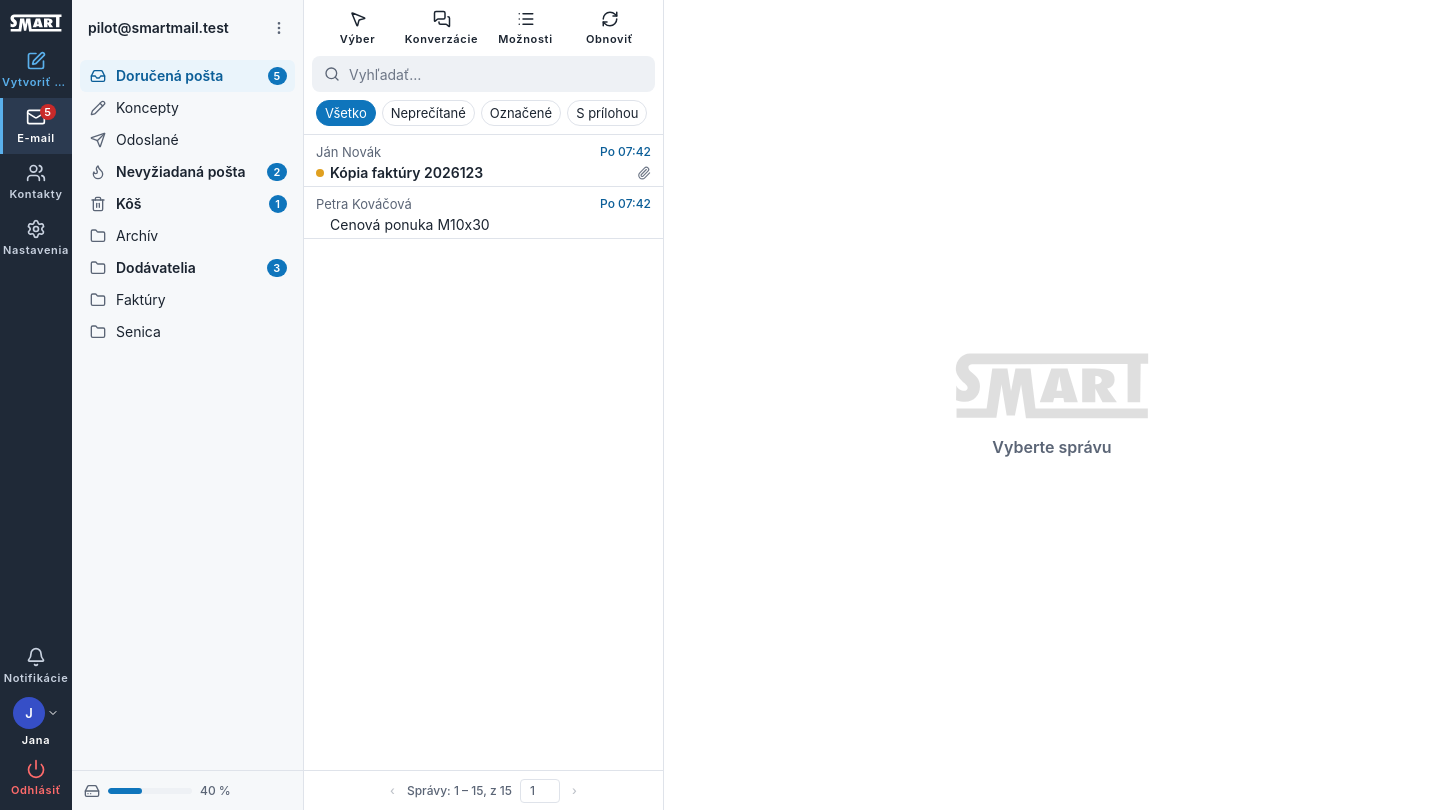
Test case: W2 shell and folder column (1c) › G3 Nový podpriečinok sends the parent and shows a name conflict inline
Right-click the link with aria-label "Dodávatelia, neprečítané: 3" at (188,268), box top-left (90, 259), bottom-right (287, 277)
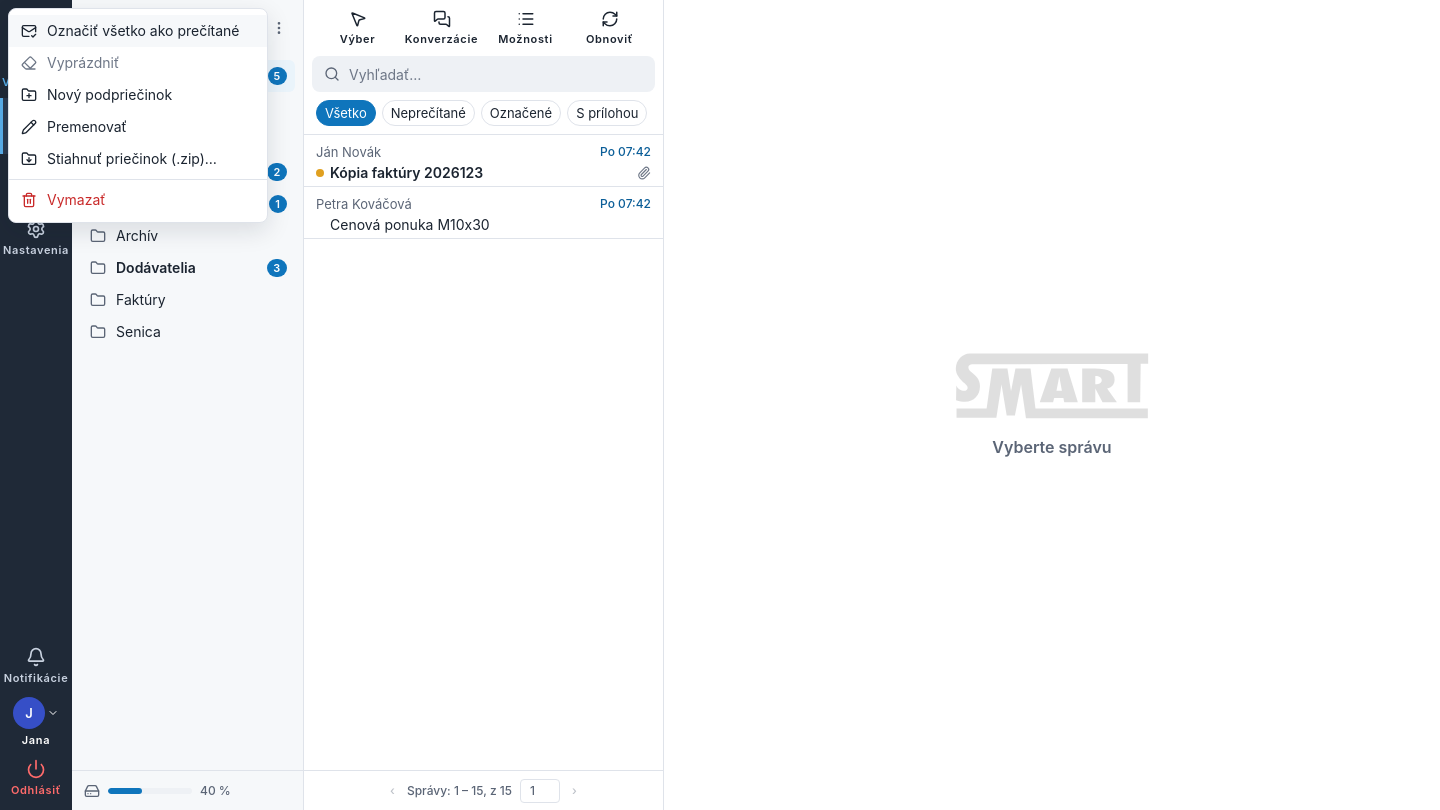
Click the menu item "Nový podpriečinok" at (138,95), box top-left (9, 79), bottom-right (267, 111)
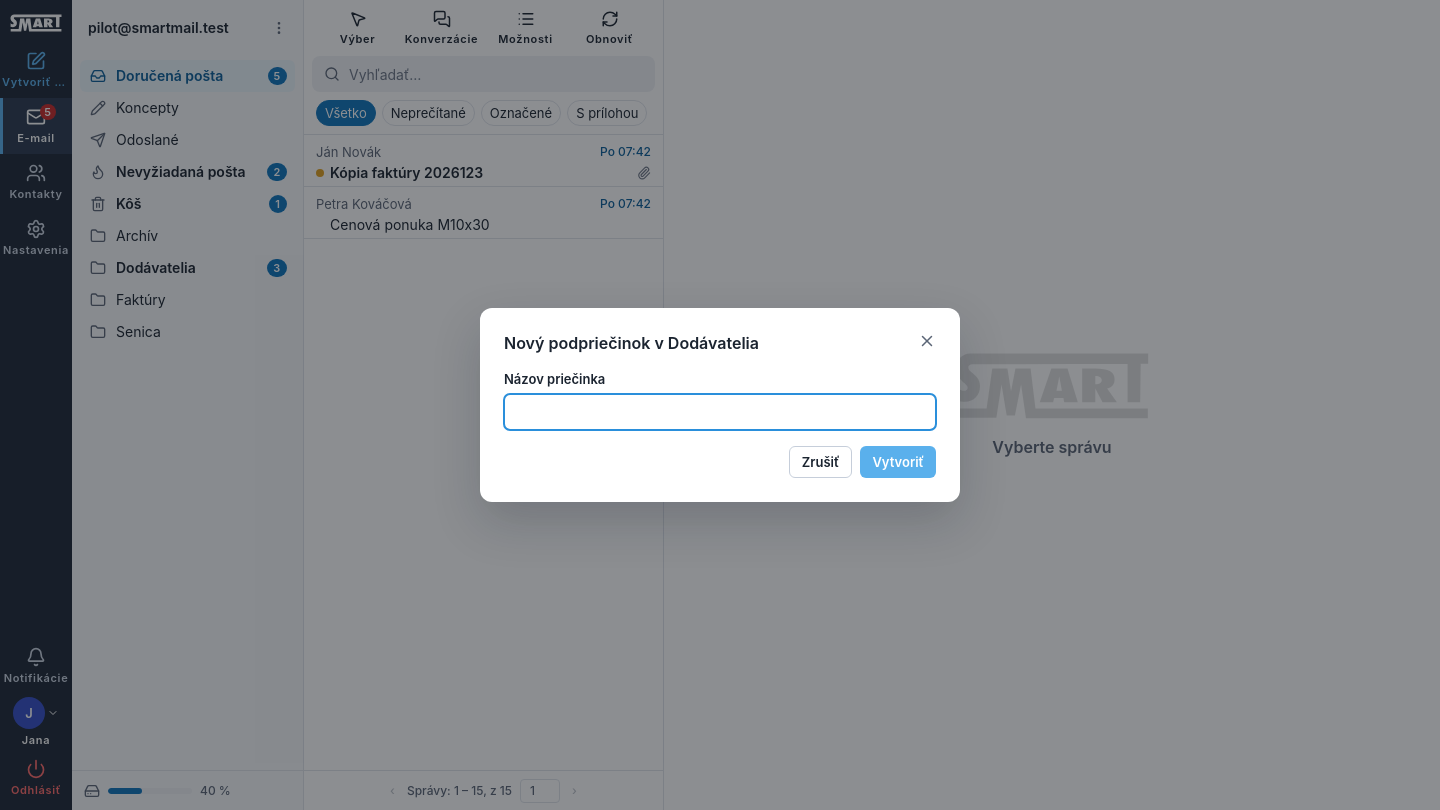
Type " Würth " into the field labelled "Názov priečinka" at (720,412), box top-left (504, 394), bottom-right (936, 430)
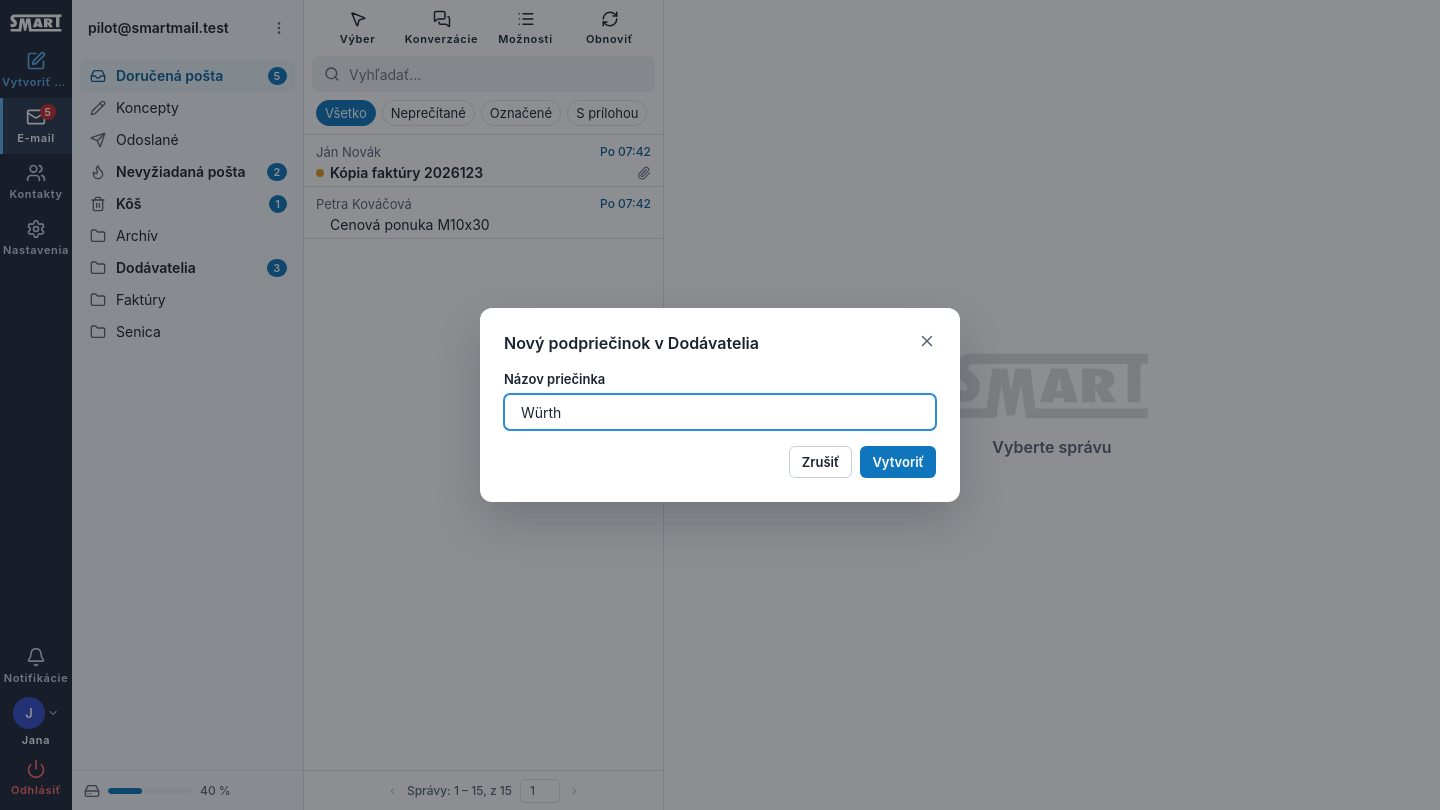
Click the button "Vytvoriť" at (898,462), box top-left (860, 446), bottom-right (936, 478)
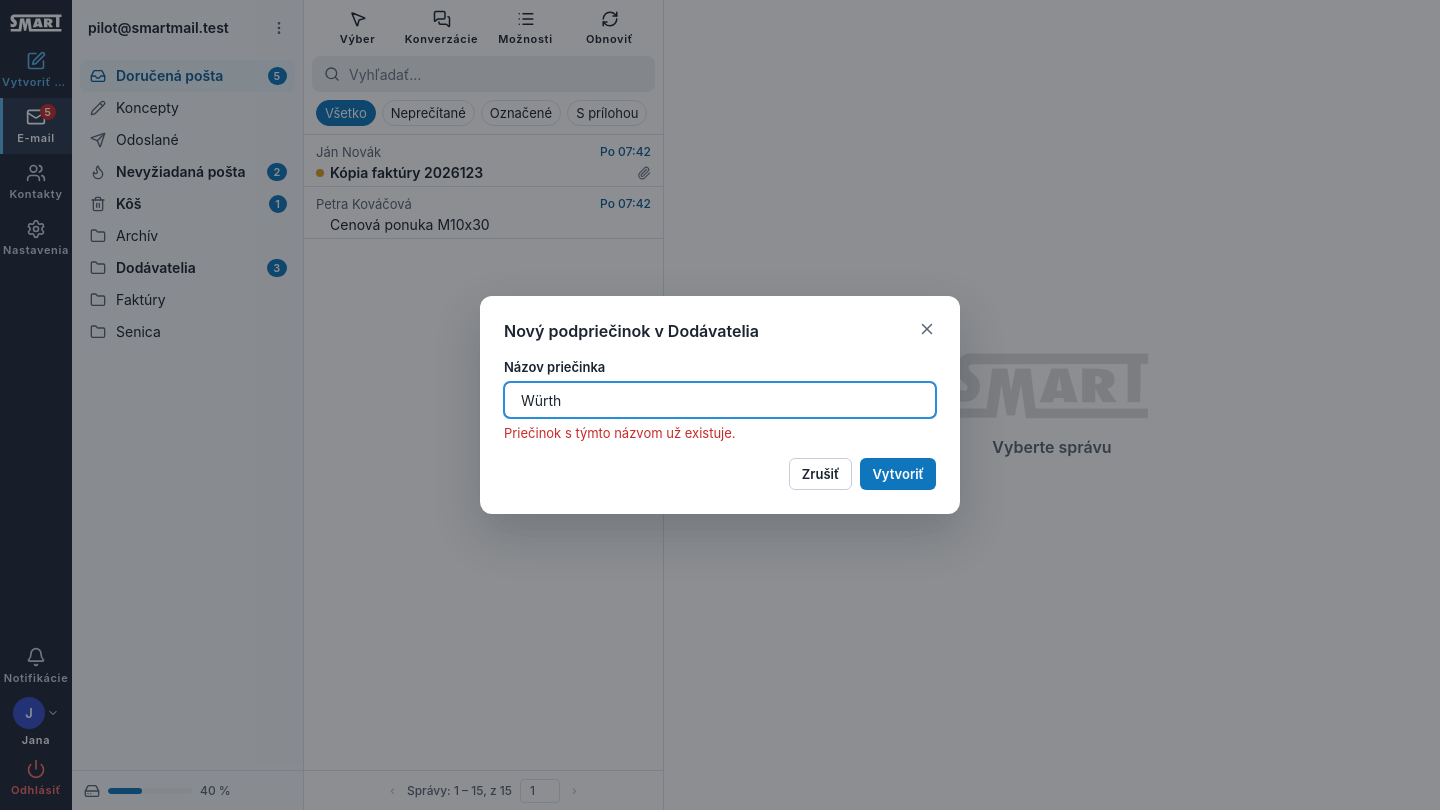
Now the text "Priečinok s týmto názvom už existuje." is shown, box top-left (504, 425), bottom-right (736, 441)
